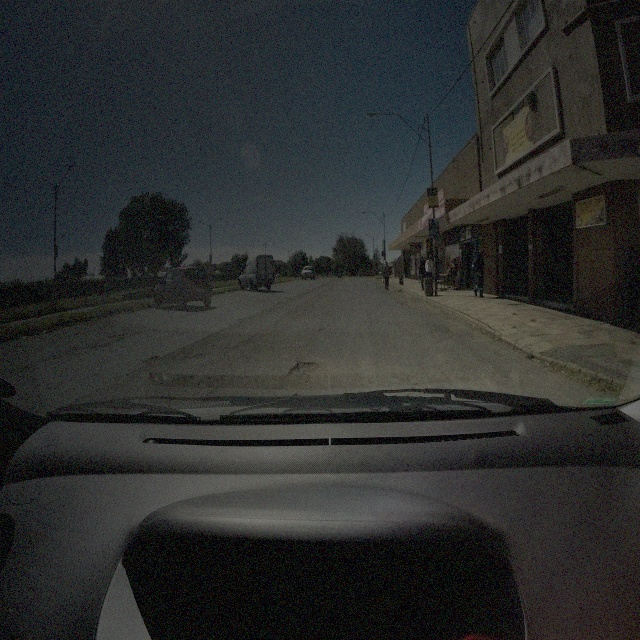pothole: (288, 355, 320, 377), (443, 321, 455, 335), (147, 353, 162, 364), (401, 301, 414, 309), (192, 350, 205, 358), (316, 325, 326, 333)
